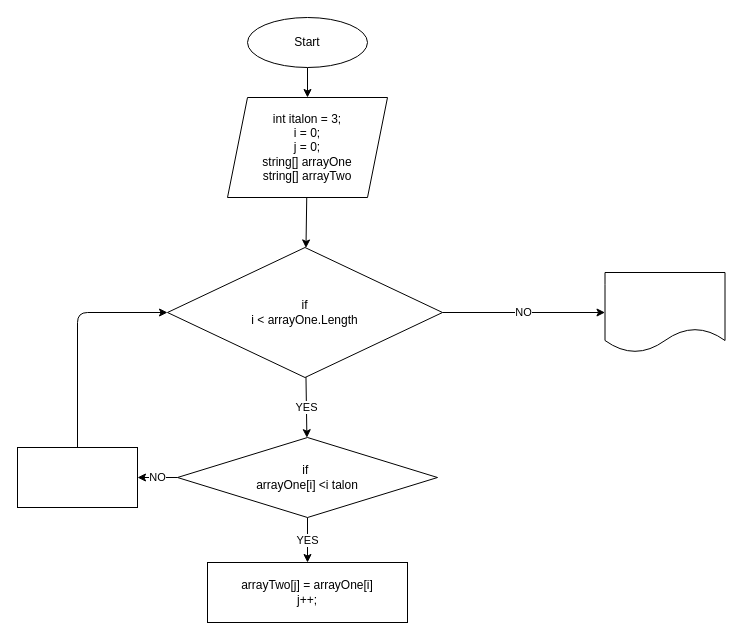
This 743x640 diagram has some shape labels left out. The centre of each missing label's shape, as x and y in pixels:
i++;: point (77, 477)
Print arrayTwo: point (664, 312)
